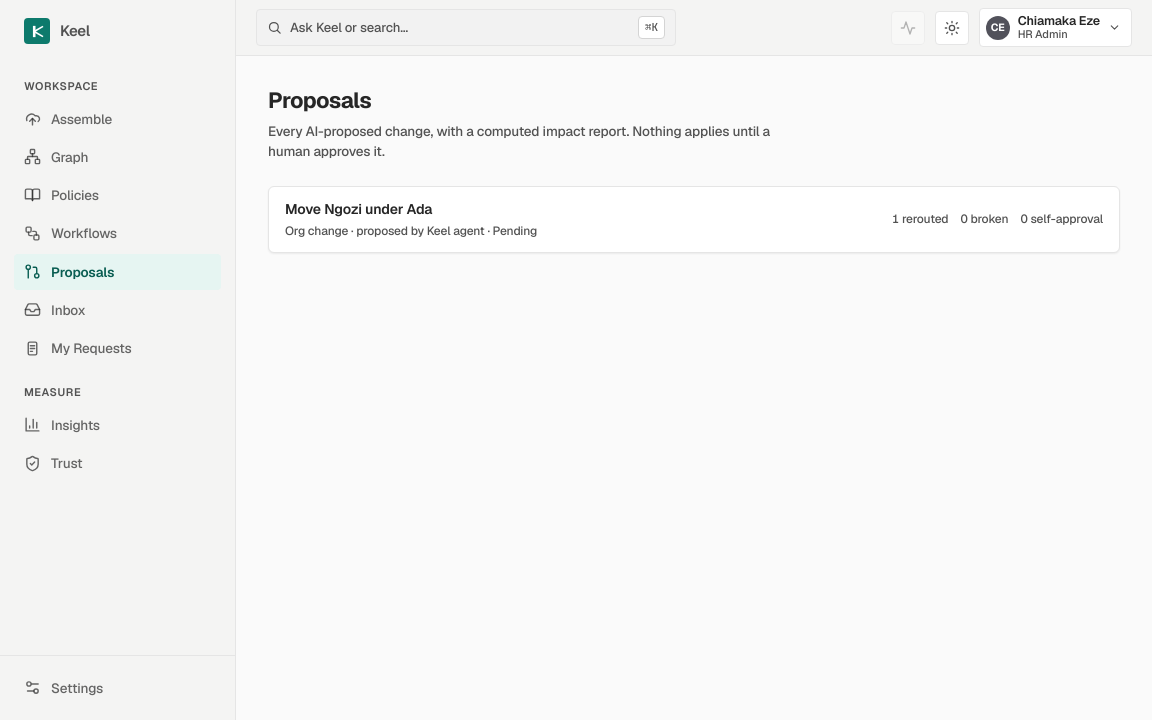
/proposals › approves a clean proposal and refreshes the list to show it decided
Click the button "Move Ngozi under Ada": point(359, 208) [269,186,1119,252]
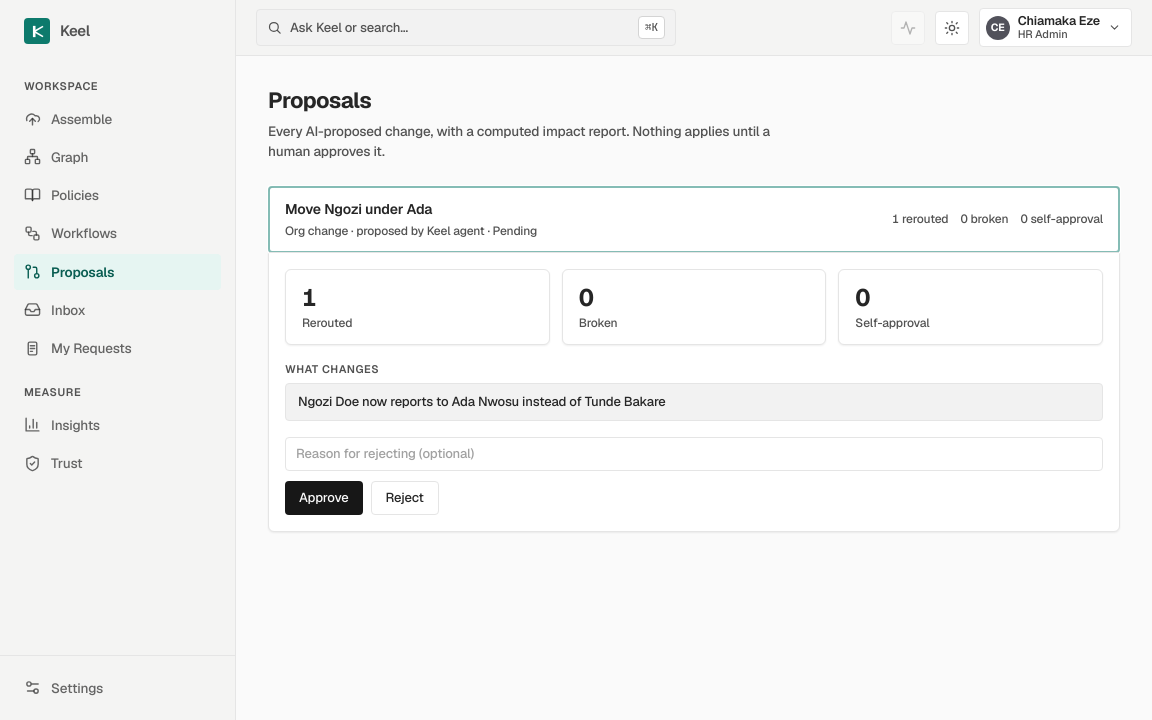
Click the button "Approve": point(324, 498) [285,480,362,514]
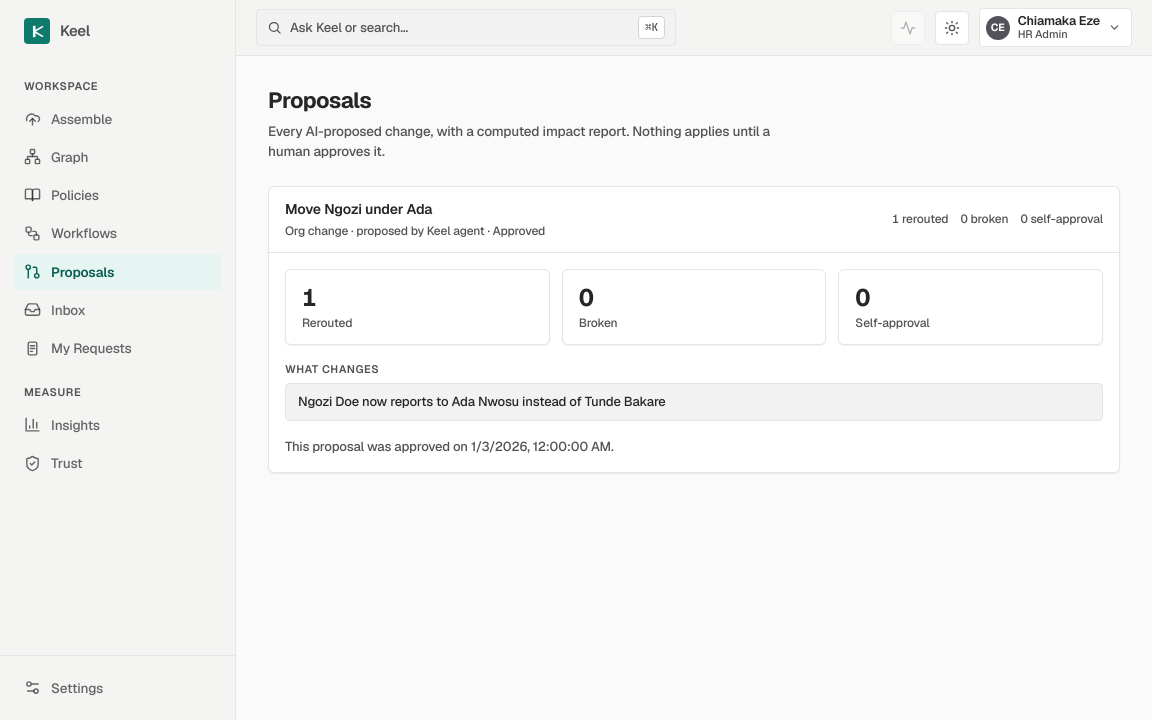
Expected: the text "This proposal was approved on 1/3/2026, 12:00:00 AM." is shown, [285,438,614,454]
